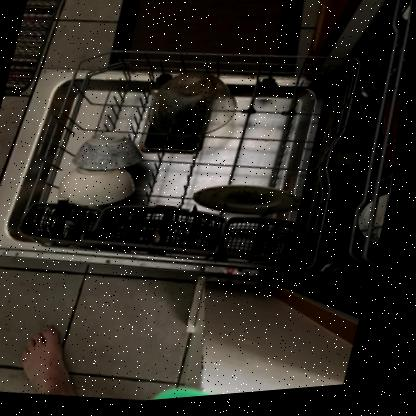bowl: (57, 158, 147, 218), (67, 124, 154, 184)
mixing bowl: (145, 67, 248, 150)
plate: (193, 178, 314, 230)
